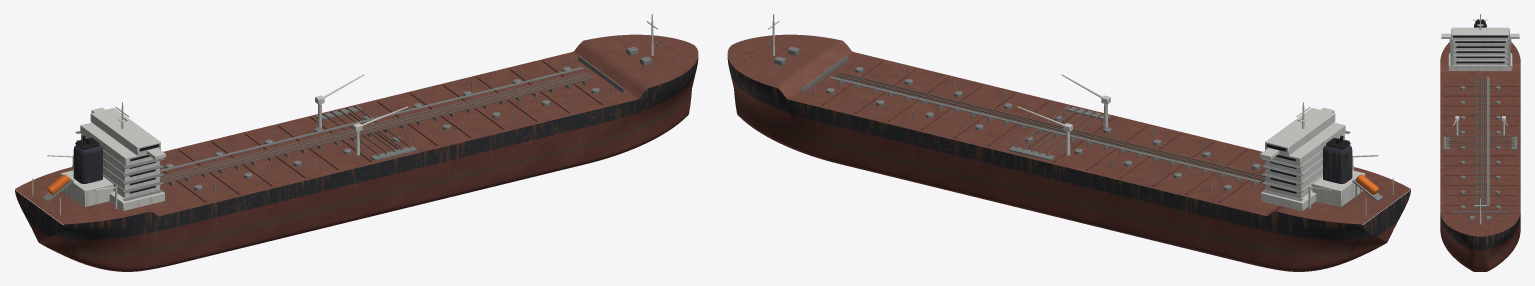
File: ship.glb
The picture shows the model from 3 angles, left to right: view 1: azimuth 30°, elevation 25°; view 2: azimuth 150°, elevation 25°; view 3: azimuth 270°, elevation 25°; orthographic projection. The views are drawn at different scales.
Visible parts, largest first — view 1: ship; view 2: ship; view 3: ship.
Boxes of the visible parts, bbox=[...] form: ship: bbox=[15, 14, 698, 271]; ship: bbox=[727, 14, 1410, 271]; ship: bbox=[1440, 14, 1520, 271].
Size of the model in its own units: 250 by 53.2 by 43.
1 material, 1 textured.
